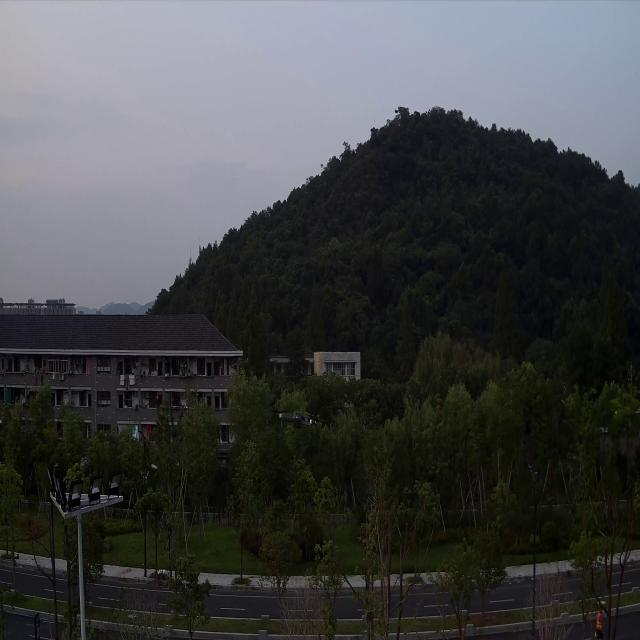UAV: (276, 408, 320, 432)
